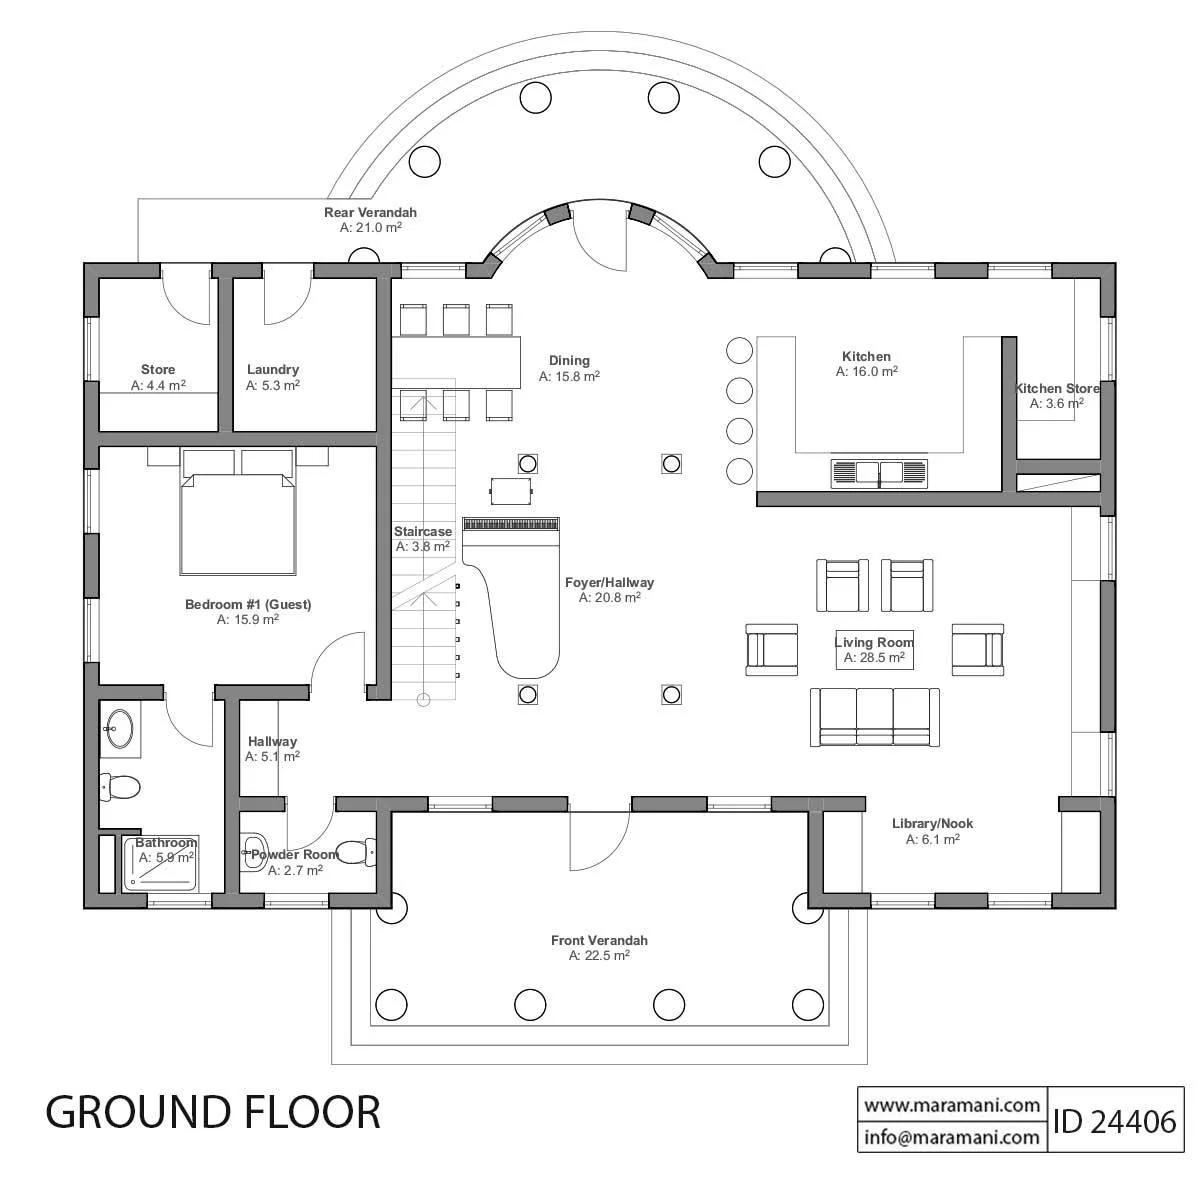room: (387, 498, 1107, 801), (388, 273, 1110, 497), (95, 440, 382, 690), (95, 692, 232, 901), (815, 804, 1105, 899), (226, 268, 382, 437), (93, 270, 222, 437), (234, 803, 382, 900)
